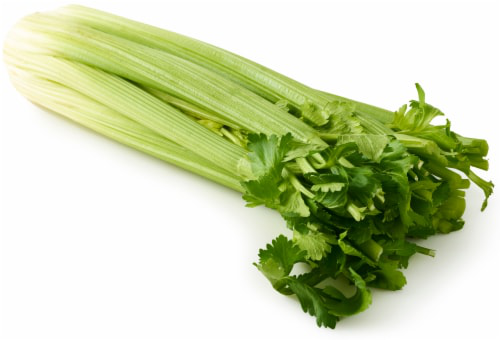Seledri: (7, 12, 490, 312)
